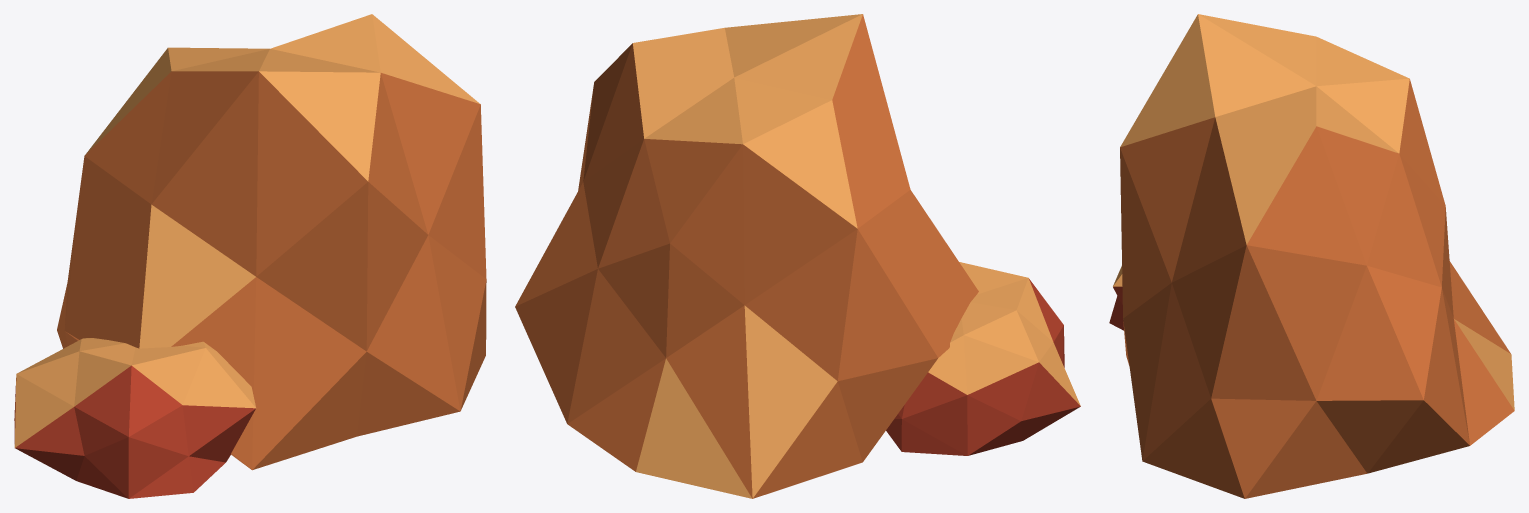
The model's file is CA_Roca_Grande_B.obj.
3 renders of one model, left to right at view 1: azimuth 30°, elevation 25°; view 2: azimuth 150°, elevation 25°; view 3: azimuth 270°, elevation 25°, orthographic.
Parts seen in each view (by area): view 1: CA_Roca_Grande_B; view 2: CA_Roca_Grande_B; view 3: CA_Roca_Grande_B.
Boxes of the visible parts, x1,y1,x2,y2 form: CA_Roca_Grande_B: (14, 14, 486, 498); CA_Roca_Grande_B: (515, 14, 1080, 498); CA_Roca_Grande_B: (1109, 14, 1514, 498).
Size of the model in its own units: 5.36 by 3.85 by 3.9.
